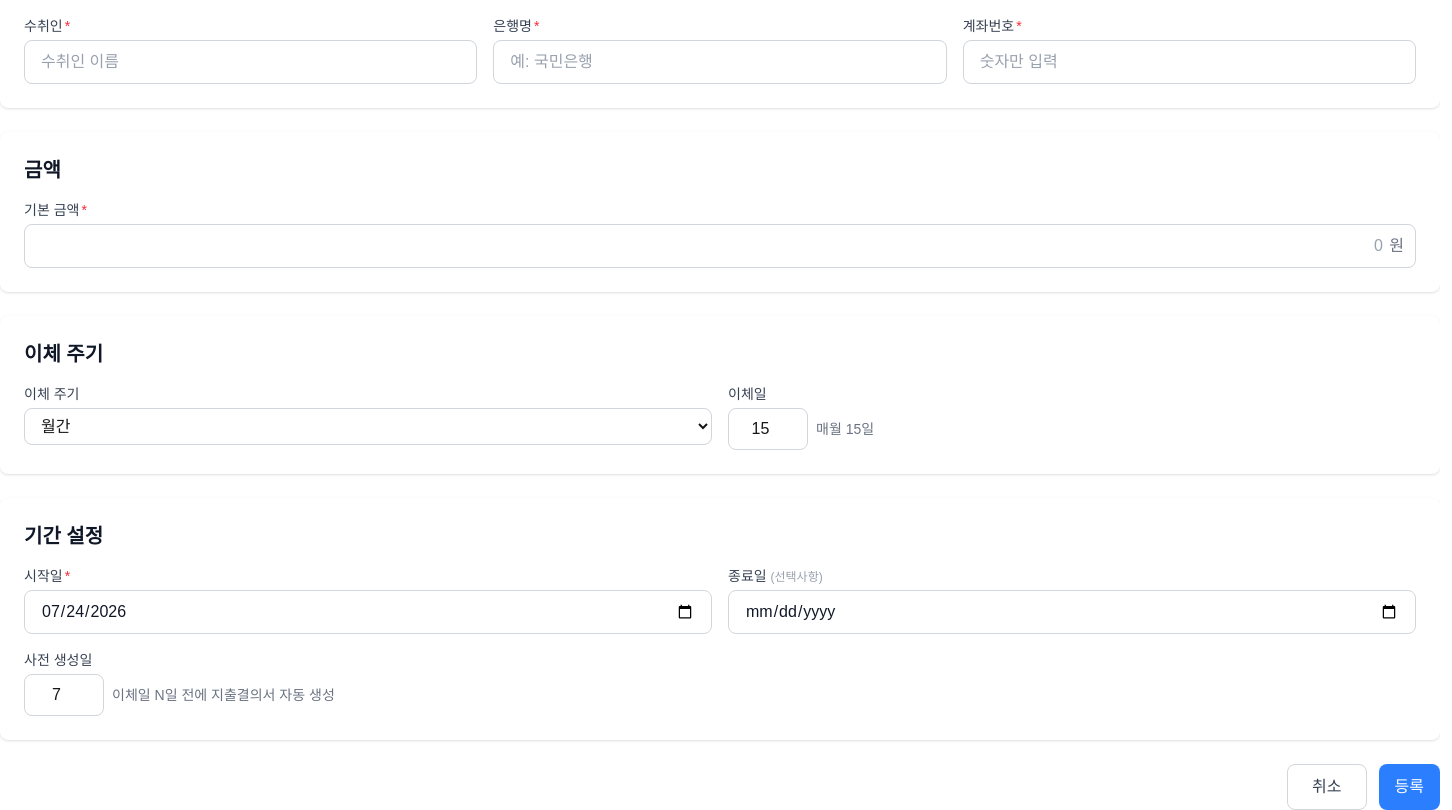
RecurringExpenseForm › 폼 검증 › 필수 필드 없이 제출 시 에러 표시
The width and height of the screenshot is (1452, 810).
(page scrolled)
Step 1. Click the button "등록" → (1409, 787), box [1378,764,1440,809]
(page scrolled)
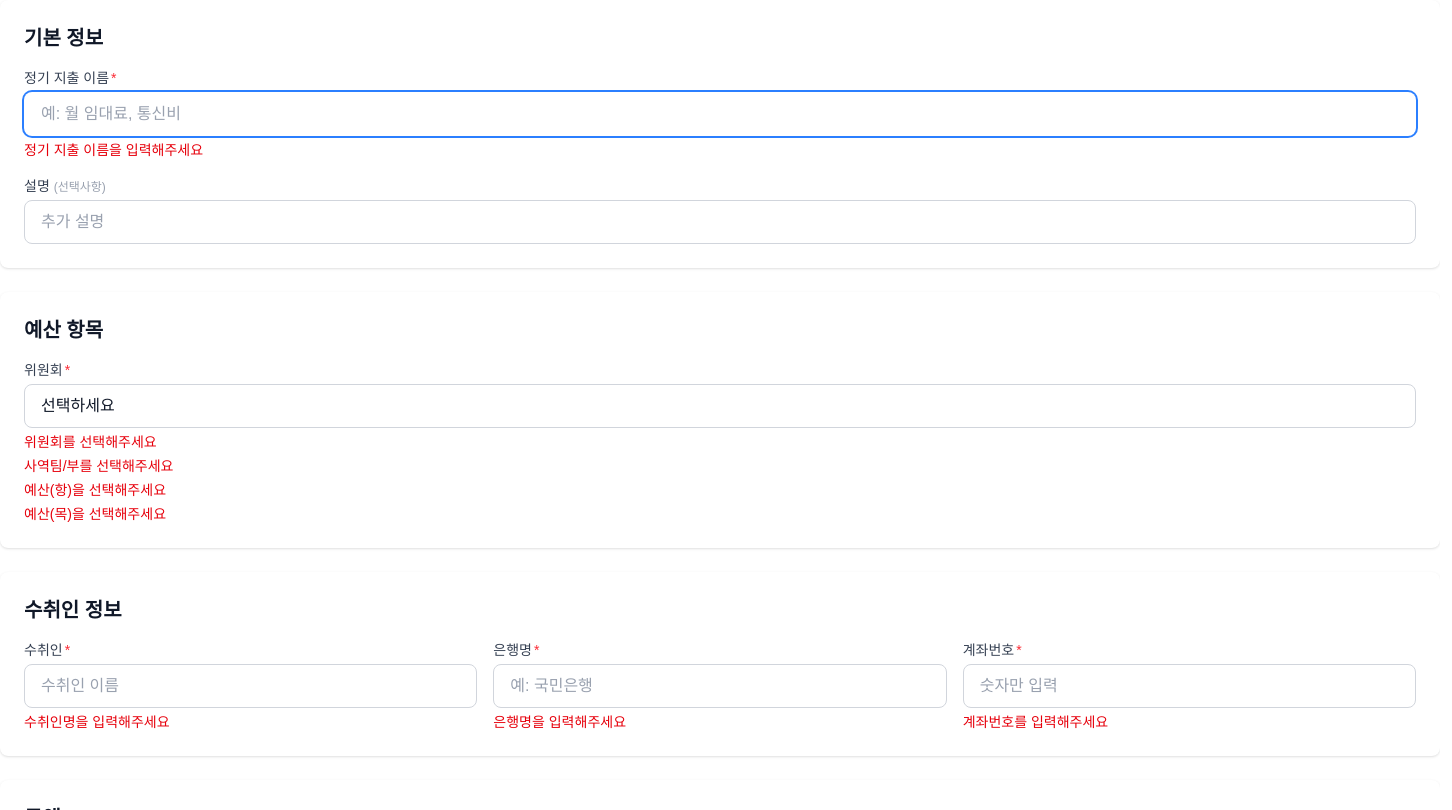
Check: the text "정기 지출 이름을 입력해주세요" is shown, box [24,142,203,158]
